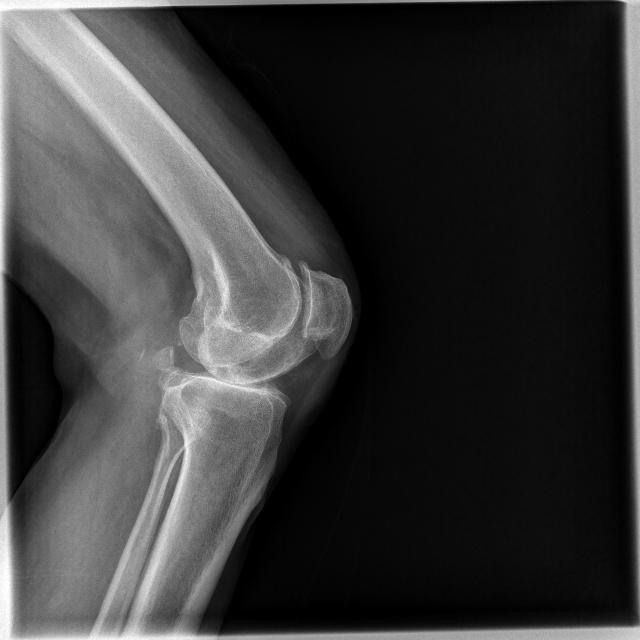Knee: (150, 257, 355, 447)
